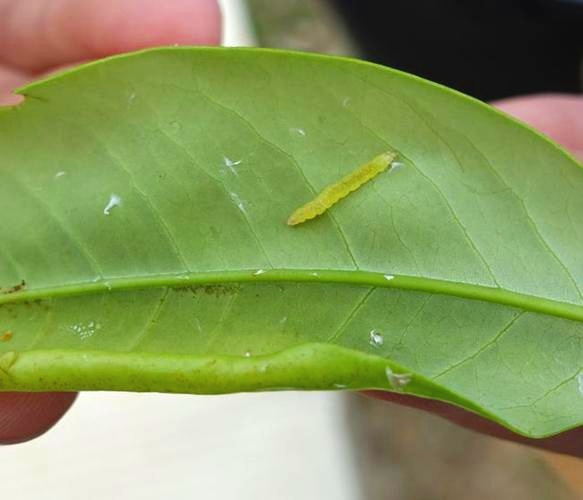Borer: (292, 147, 389, 229)
